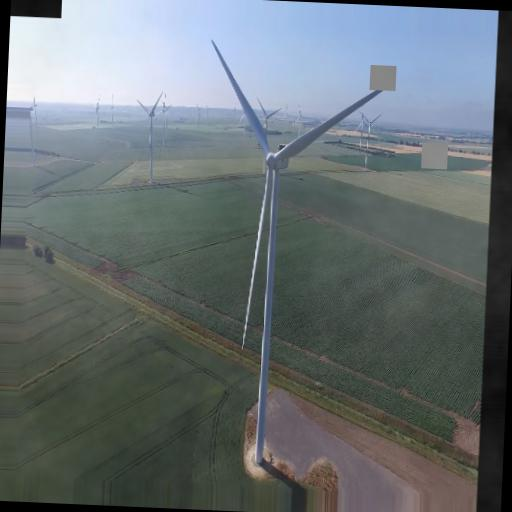wind turbine: (211, 41, 391, 464), (135, 90, 165, 183), (357, 109, 382, 168)
